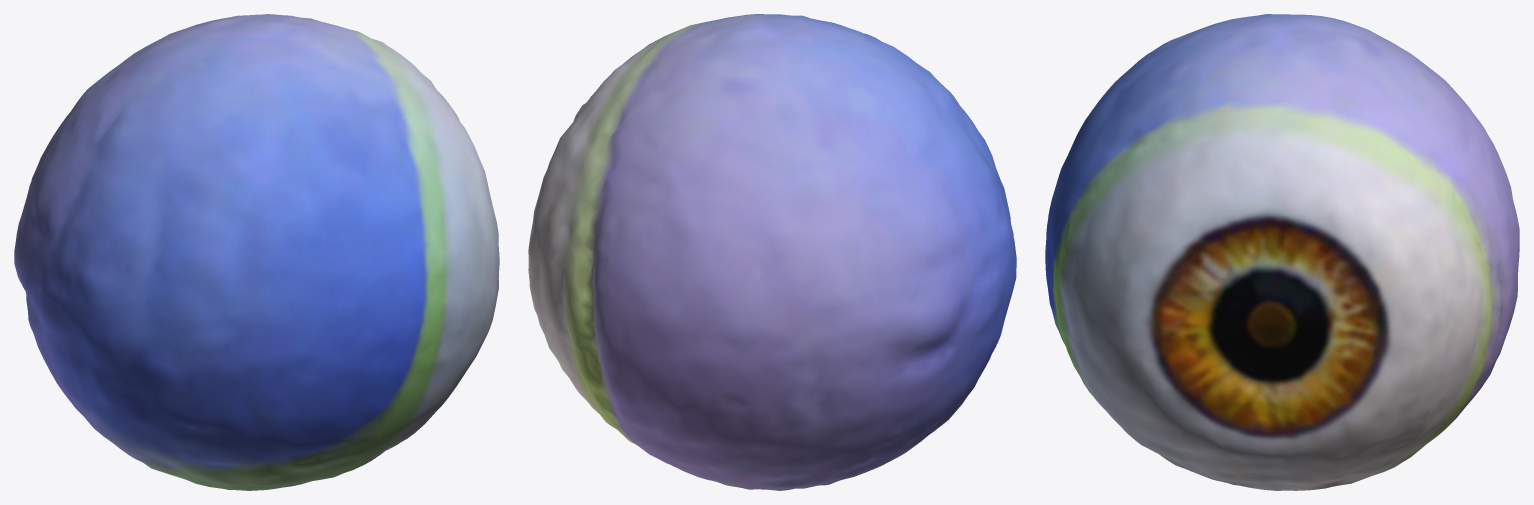
Rendered from Crea_un_modelo_detallado_de_la_anatomía_del_ojo_humano_El_m_0614.glb.
3 renders of one model, left to right at view 1: azimuth 30°, elevation 25°; view 2: azimuth 150°, elevation 25°; view 3: azimuth 270°, elevation 25°, orthographic.
Parts seen in each view (by area): view 1: Mesh1; view 2: Mesh1; view 3: Mesh1.
Boxes of the visible parts, x1,y1,x2,y2 form: Mesh1: (14, 14, 499, 490); Mesh1: (528, 14, 1016, 490); Mesh1: (1045, 14, 1519, 490).
Bounding box in the file's own units: 1.14 × 1.2 × 1.18.
1 material, 1 textured.
